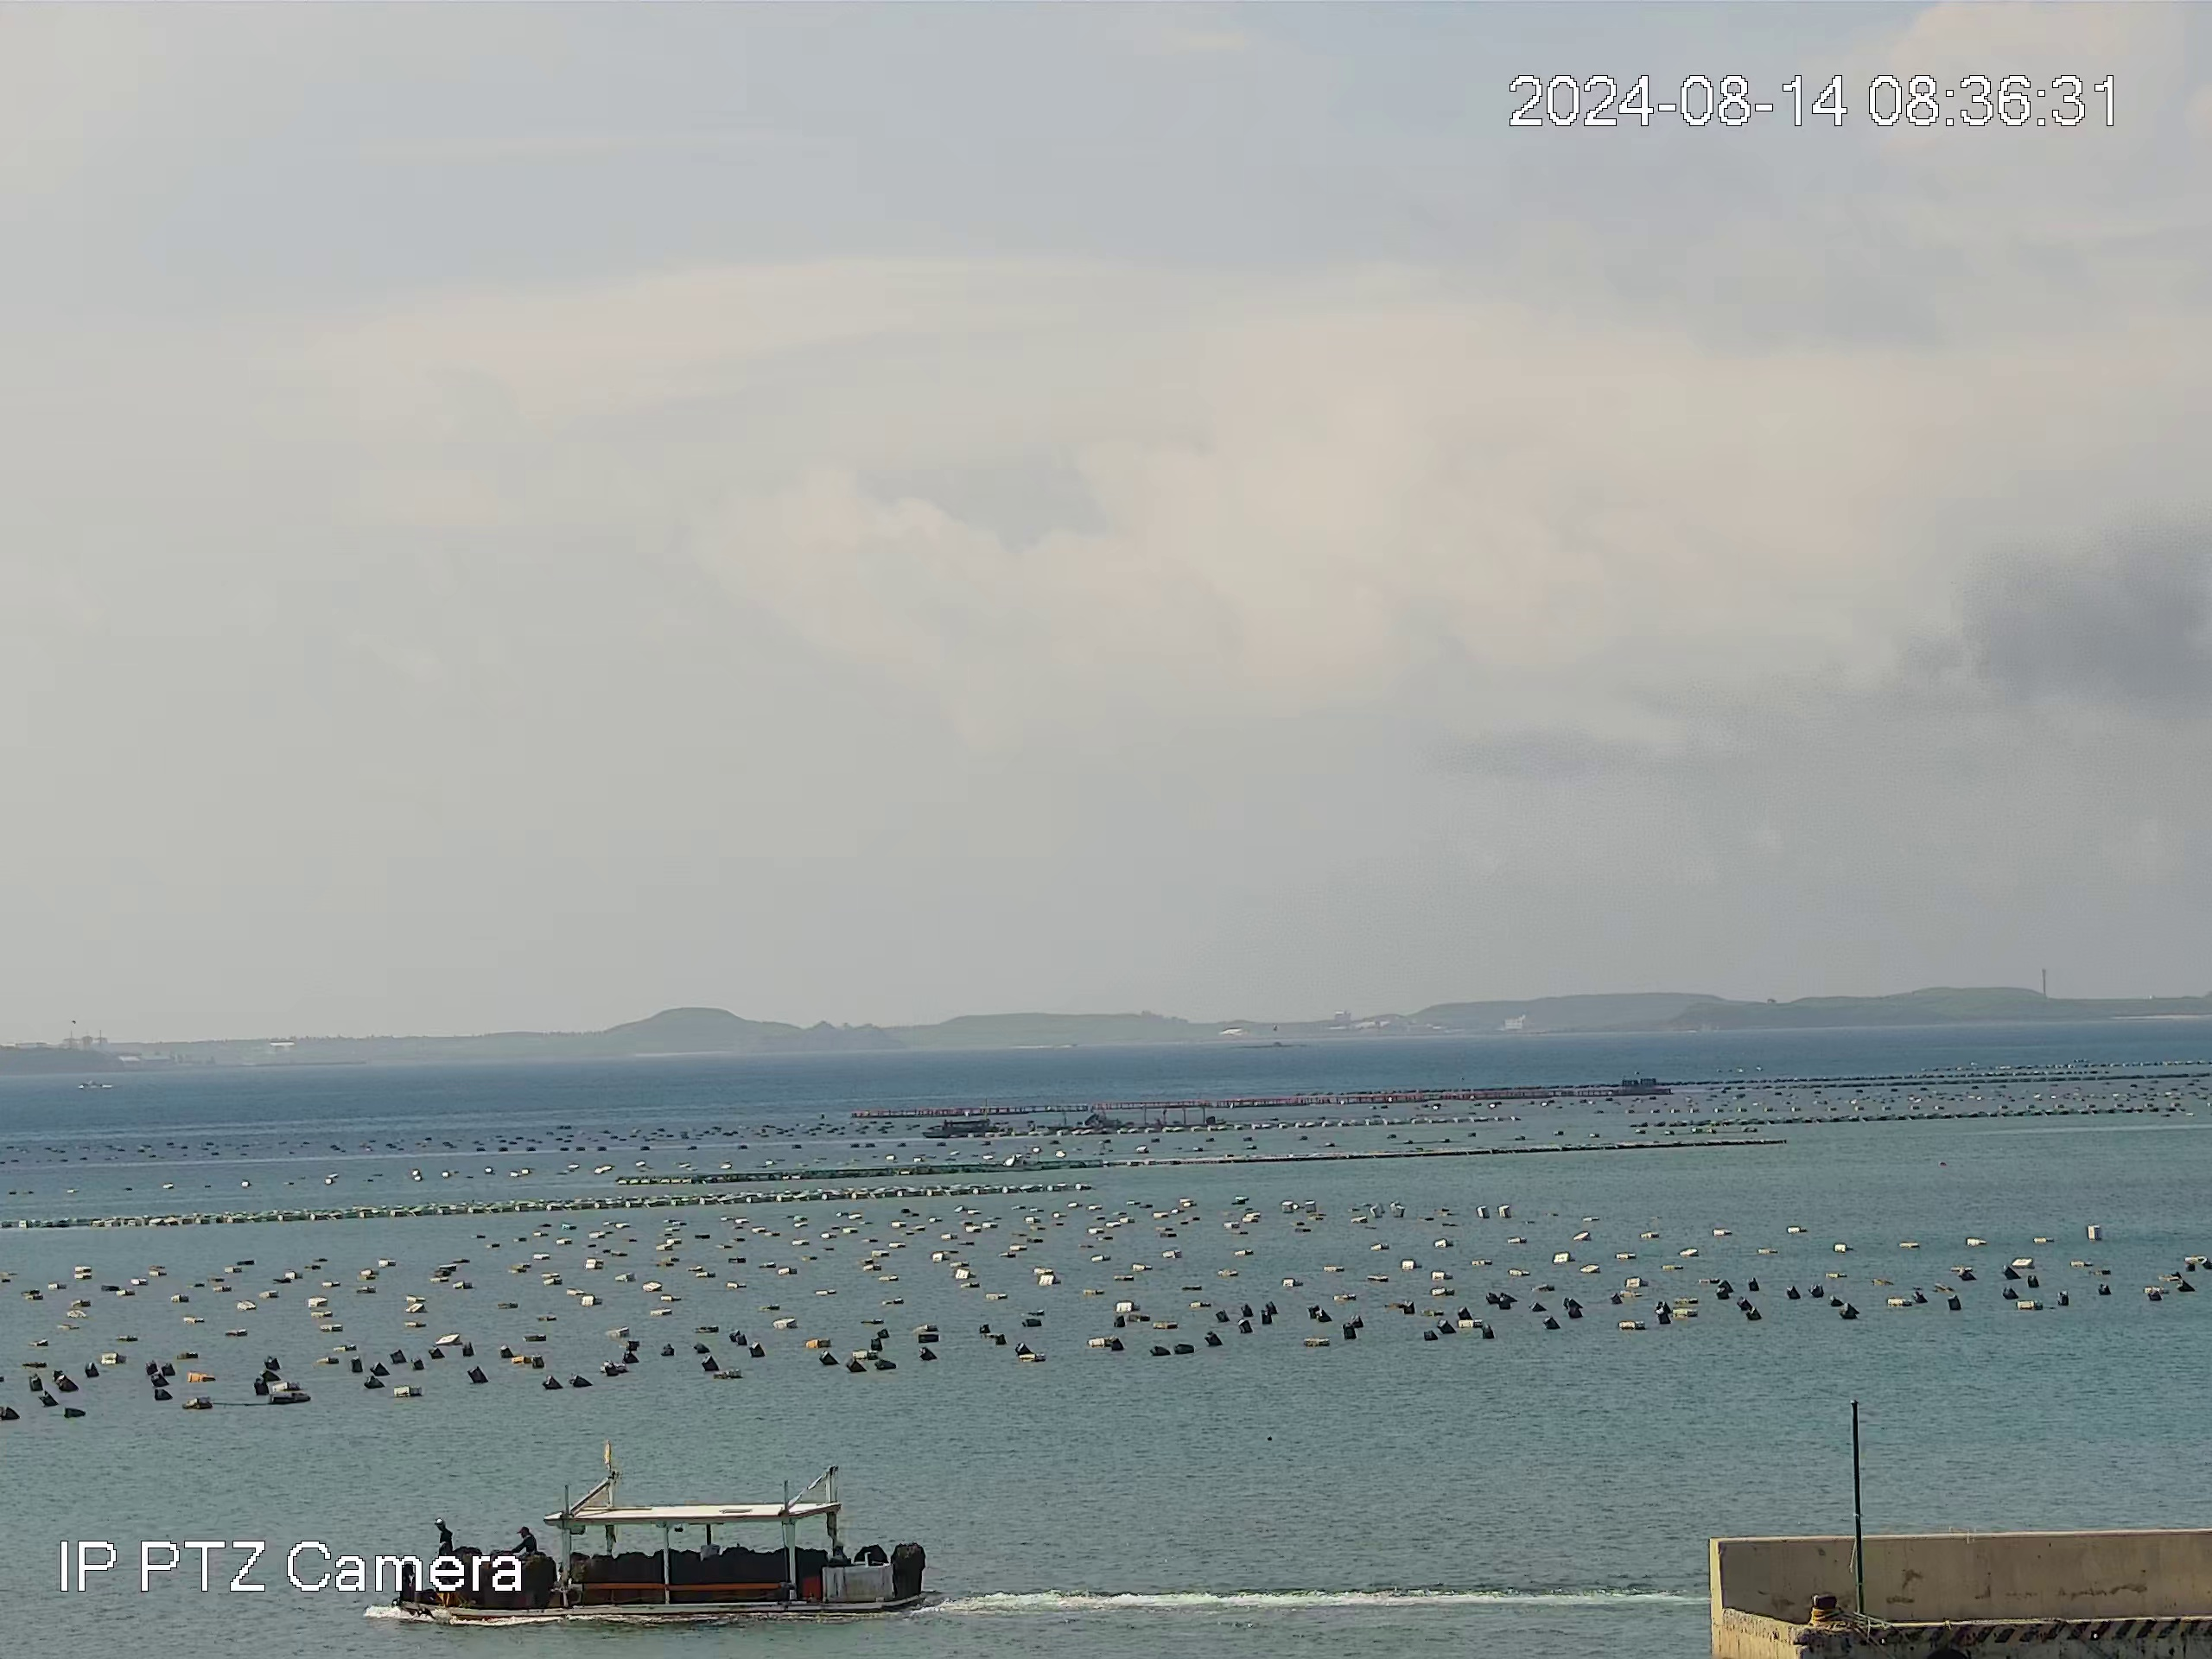boat: (921, 1119, 995, 1140)
